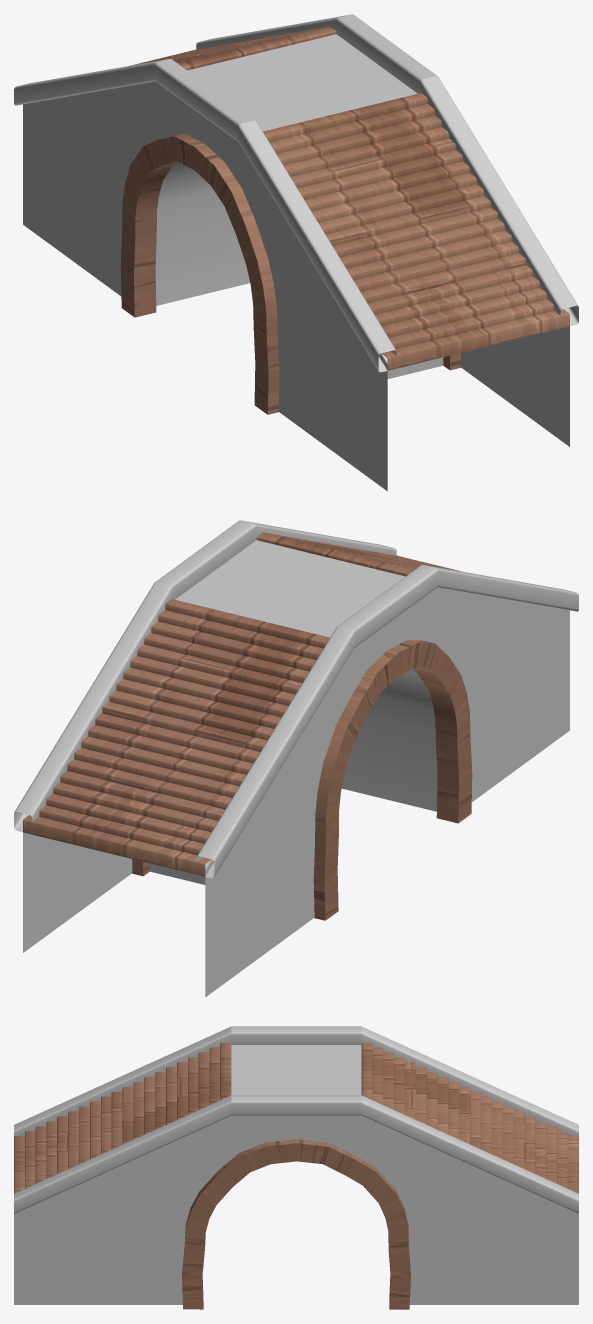
Rendered from SM_stairs_03.fbx.
3 views of the same model, one above another, from view 1: azimuth 30°, elevation 25°; view 2: azimuth 150°, elevation 25°; view 3: azimuth 270°, elevation 25° (orthographic). The views are drawn at different scales.
Visible parts, largest first — view 1: SM_stairs_03_LOD0; view 2: SM_stairs_03_LOD0; view 3: SM_stairs_03_LOD0.
Part boxes in pixels (x1=…): SM_stairs_03_LOD0: x1=14, y1=14, x2=578, y2=491; SM_stairs_03_LOD0: x1=14, y1=520, x2=578, y2=997; SM_stairs_03_LOD0: x1=14, y1=1026, x2=578, y2=1309.
Size of the model in its own units: 336 by 1040 by 421.
